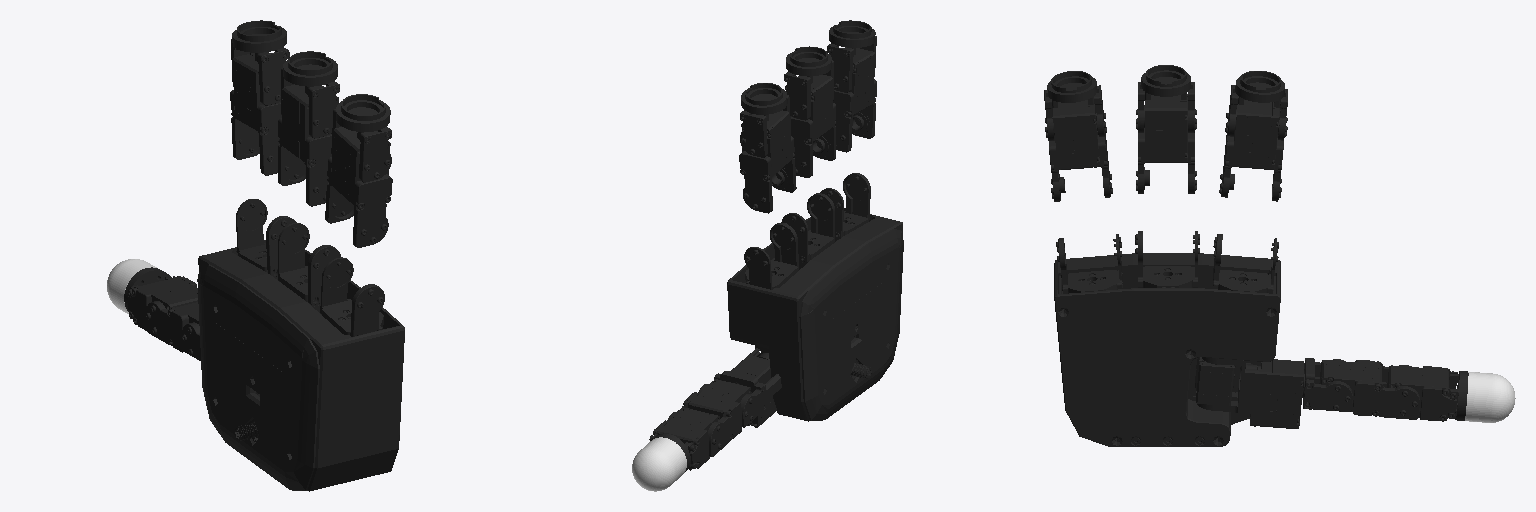
The robot description file, URDF, robot "allegro_hand_right":
<?xml version="1.0" ?>
<!-- =================================================================================== -->
<!-- |    This document was autogenerated by xacro from allegro_hand_description_right.xacro | -->
<!-- |    EDITING THIS FILE BY HAND IS NOT RECOMMENDED                                 | -->
<!-- =================================================================================== -->
<robot name="allegro_hand_right" xmlns:xacro="http://www.ros.org/wiki/xacro">
  <!-- ======================== BASE PARAMS ========================= -->
  <!-- ======================== FINGER PARAMS ======================== -->
  <!-- full height from joint to tip. when used,
    the radius of the finger tip sphere will be subtracted
    and one fixed link will be added for the tip. -->
  <!-- ========================= THUMB PARAMS ========================= -->
  <!-- ========================= LIMITS ========================= -->
  <!-- ============================================================================= -->
  <!-- PALM -->
 <link name="world"/>
  <joint name="global" type="fixed">
        <parent link="world"/>
        <child link="palm_link"/>
        <!--<origin xyz="0 0 0.095" rpy="0 0 0"/>-->
        <origin xyz="0 0 0.0" rpy="0 0 0"/>
  </joint>
  <link name="palm_link">
    <visual>
      <geometry>
        <mesh filename="package://allegro_hand_controllers/meshes/palm.stl" scale="0.001 0.001 0.001"/>
      </geometry>
      <origin rpy="0 3.14 1.57" xyz="0.02 -0.00 -0.1"/>
      <material name="black">
        <color rgba="0.2 0.2 0.2 1"/>
      </material>
    </visual>
    <collision>
      <geometry>
        <mesh filename="package://allegro_hand_controllers/meshes/palm.stl" scale="0.001 0.001 0.001"/>
      </geometry>
 <origin rpy="0 3.14 1.57" xyz="0.02 -0.00 -0.1"/>
    </collision>
    <inertial>
      <origin rpy="0 0 0" xyz="0 0 0.0475"/>
      <mass value="0.4154"/>
      <inertia ixx="1e-4" ixy="0.0" ixz="0.0" iyy="1e-4" iyz="0.0" izz="1e-4"/>
    </inertial>
  </link>
  <!-- ============================================================================= -->
  <!-- FINGERS -->
  <!-- RIGHT HAND due to which finger is number 0 -->
  <!-- for LEFT HAND switch the sign of the **offset_origin_y** and **finger_angle_r** parameters-->
  <!-- [LINK 0, 4, 8] -->
  <link name="link_0_0">
    <visual>
      <geometry>
        <mesh filename="package://allegro_hand_controllers/meshes/new_l1.stl" scale="0.001 0.001 0.001"/>
      </geometry>
      <origin rpy="0 0 -1.57" xyz="-0.0625 -0.022 0.167"/>
      <material name="black">
        <color rgba="0.2 0.2 0.2 1"/>
      </material>
    </visual>
    <collision>
      <geometry>
        <mesh filename="package://allegro_hand_controllers/meshes/new_l1.stl" scale="0.001 0.001 0.001"/>
      </geometry>
      <origin rpy="0 0 -1.57" xyz="-0.0625 -0.022 0.167"/>
    </collision>
    <inertial>
      <mass value="0.0176"/>
      <origin rpy="0 0 0" xyz="0 0 0"/>
      <inertia ixx="1.2854008e-05" ixy="2.04e-08" ixz="1.89e-06" iyy="1.225e-05" iyz="1.51e-07" izz="2.999e-06"/>
    </inertial>
  </link>
  <joint name="joint_0_0" type="revolute">
    <axis xyz="0 0 1"/>
    <limit effort="15" lower="-0.3" upper="0.3" velocity="7"/>
    <parent link="palm_link"/>
    <child link="link_0_0"/>
    <origin rpy="-0.08726646255 0 0" xyz="0.0005 0.0425 -0.005"/>
    <dynamics damping="3" friction="10"/>
  </joint>
  <!-- [LINK 1, 5, 9] -->
  <link name="link_1_0">
    <visual>
      <geometry>
        <mesh filename="package://allegro_hand_controllers/meshes/new_l2.stl" scale="0.001 0.001 0.001"/>
      </geometry>
      <origin rpy="0 0 -1.57" xyz="-0.0625 -0.022 0.1495"/>
      <material name="black"/>
    </visual>
    <collision>
      <geometry>
        <mesh filename="package://allegro_hand_controllers/meshes/new_l2.stl" scale="0.001 0.001 0.001"/>
      </geometry>
      <origin rpy="0 0 -1.57" xyz="-0.0625 -0.022 0.1495"/>
    </collision>
    <inertial>
      <mass value="0.086"/>
      <origin rpy="0 0 0" xyz="0 0 0"/>
      <inertia ixx="1.86e-05" ixy="1.68e-06" ixz="-6.16e-06" iyy="4.87e-05" iyz="3.51e-07" izz="5.57e-05"/>
    </inertial>
  </link>
  <joint name="joint_1_0" type="revolute">
    <limit effort="15" lower="-0.01" upper="1.6" velocity="7"/>
    <axis xyz="0 1 0"/>
    <parent link="link_0_0"/>
    <child link="link_1_0"/>
    <origin xyz="0 -0.000 0.017"/>
    <dynamics damping="3" friction="5"/>
  </joint>
  <!-- [LINK 2, 6, 10]-->
  <link name="link_2_0">
    <visual>
      <geometry>
        <mesh filename="package://allegro_hand_controllers/meshes/new_l3.stl" scale="0.001 0.001 0.001"/>
      </geometry>
      <origin rpy="0 0 -1.57" xyz="-0.0625 -0.022 0.1065"/>
      <material name="black"/>
    </visual>
    <collision>
      <geometry>
        <mesh filename="package://allegro_hand_controllers/meshes/new_l3.stl" scale="0.001 0.001 0.001"/>
      </geometry>
      <origin rpy="0 0 -1.57" xyz="-0.0625 -0.022 0.1065"/>
    </collision>
    <inertial>
      <mass value="0.0367"/>
      <origin rpy="0 0 0" xyz="0 0 0"/>
      <inertia ixx="3.81e-06" ixy="5.72e-09" ixz="-9.97e-07" iyy="1.455e-05" iyz="2.63e-08" izz="1.29e-05"/>
    </inertial>
  </link>
  <joint name="joint_2_0" type="revolute">
    <axis xyz="0 1 0"/>
    <limit effort="15" lower="-0.07" upper="1.86" velocity="7"/>
    <parent link="link_1_0"/>
    <child link="link_2_0"/>
    <origin xyz="0 -0.000 0.0431"/>
    <dynamics damping="8" friction="10"/>
  </joint>
  <!-- [LINK 3, 7, 11] -->
  <link name="link_3_0">
    <visual>
      <geometry>
        <mesh filename="package://allegro_hand_controllers/meshes/new_l4.stl" scale="0.001 0.001 0.001"/>
      </geometry>
      <origin rpy="0 0 -1.57" xyz="-0.0625 -0.022 0.0685"/>
      <material name="black"/>
    </visual>
    <collision>
      <geometry>
        <mesh filename="package://allegro_hand_controllers/meshes/new_l4.stl" scale="0.001 0.001 0.001"/>
      </geometry>
      <origin rpy="0 0 -1.57" xyz="-0.0625 -0.022 0.0685"/>
    </collision>
    <inertial>
      <mass value="0.004"/>
      <origin rpy="0 0 0" xyz="0 0 0"/>
      <inertia ixx="1.17e-06" ixy="5.09e-09" ixz="0.0" iyy="2.4e-06" iyz="0.0" izz="1.67e-06"/>
    </inertial>
  </link>
  <joint name="joint_3_0" type="revolute">
    <axis xyz="0 1 0"/>
    <limit effort="15" lower="-0.02" upper="2.01" velocity="7"/>
    <parent link="link_2_0"/>
    <child link="link_3_0"/>
    <origin xyz="0 0 0.038"/>
    <dynamics damping="10" friction="12"/>
  </joint>
  <!-- [FINGER TIP] -->
  <link name="link_3_0_tip">
    <visual>
      <geometry>
        <mesh filename="package://allegro_hand_controllers/meshes/finger_tip.stl" scale="0.001 0.001 0.001"/>
      </geometry>
       <origin rpy="0 0 -1.57" xyz="-0.05482 -0.01493 -0.01795"/>
      <material name="white">
        <color rgba=".9 .9 .9 1"/>
      </material>
    </visual>
    <collision>
      <geometry>
        <mesh filename="package://allegro_hand_controllers/meshes/finger_tip.stl" scale="0.001 0.001 0.001"/>
      </geometry>
       <origin rpy="0 0 -1.57" xyz="-0.05482 -0.01493 -0.01795"/>
    </collision>
    <inertial>
      <mass value="0.0017"/>
      <origin rpy="0 0 0" xyz="0 0 0"/>
      <inertia ixx="9.68e-07" ixy="0" ixz="0" iyy="9.68e-07" iyz="0" izz="9.68e-07"/>
    </inertial>
  </link>
  <joint name="joint_3_0_tip" type="fixed">
    <parent link="link_3_0"/>
    <child link="link_3_0_tip"/>
    <origin rpy="0 0 0" xyz="0 0 0.04"/>
  </joint>
  <!-- [LINK 0, 4, 8] -->
  <link name="link_4_0">
     <visual>
      <geometry>
        <mesh filename="package://allegro_hand_controllers/meshes/new_l1.stl" scale="0.001 0.001 0.001"/>
      </geometry>
      <origin rpy="0 0 -1.57" xyz="-0.0625 -0.022 0.167"/>
      <material name="black">
        <color rgba="0.2 0.2 0.2 1"/>
      </material>
    </visual>
    <collision>
      <geometry>
        <mesh filename="package://allegro_hand_controllers/meshes/new_l1.stl" scale="0.001 0.001 0.001"/>
      </geometry>
      <origin rpy="0 0 -1.57" xyz="-0.0625 -0.022 0.167"/>
    </collision>
    <inertial>
      <mass value="0.0176"/>
      <origin rpy="0 0 0" xyz="0 0 0"/>
      <inertia ixx="1.2854008e-05" ixy="2.04e-08" ixz="1.89e-06" iyy="1.225e-05" iyz="1.51e-07" izz="2.999e-06"/>
    </inertial>
  </link>
  <joint name="joint_4_0" type="revolute">
    <axis xyz="0 0 1"/>
    <limit effort="15" lower="-0.26" upper="0.26" velocity="7"/>
    <parent link="palm_link"/>
    <child link="link_4_0"/>
    <origin rpy="0.0 0 0" xyz="0 0 -0.002"/>
    <dynamics damping="3" friction="10"/>
  </joint>
  <!-- [LINK 1, 5, 9] -->
  <link name="link_5_0">
    <visual>
      <geometry>
        <mesh filename="package://allegro_hand_controllers/meshes/new_l2.stl" scale="0.001 0.001 0.001"/>
      </geometry>
      <origin rpy="0 0 -1.57" xyz="-0.0625 -0.022 0.1495"/>
      <material name="black"/>
    </visual>
    <collision>
      <geometry>
        <mesh filename="package://allegro_hand_controllers/meshes/new_l2.stl" scale="0.001 0.001 0.001"/>
      </geometry>
      <origin rpy="0 0 -1.57" xyz="-0.0625 -0.022 0.1495"/>
    </collision>
    <inertial>
      <mass value="0.086"/>
      <origin rpy="0 0 0" xyz="0 0 0"/>
      <inertia ixx="1.86e-05" ixy="1.68e-06" ixz="-6.16e-06" iyy="4.87e-05" iyz="3.51e-07" izz="5.57e-05"/>
    </inertial>
  </link>
  <joint name="joint_5_0" type="revolute">
    <limit effort="15" lower="-0.21" upper="1.79" velocity="7"/>
    <axis xyz="0 1 0"/>
    <parent link="link_4_0"/>
    <child link="link_5_0"/>
    <origin xyz="0 0 0.017"/>
    <dynamics damping="3" friction="5"/>
  </joint>
  <!-- [LINK 2, 6, 10]-->
  <link name="link_6_0">
   <visual>
      <geometry>
        <mesh filename="package://allegro_hand_controllers/meshes/new_l3.stl" scale="0.001 0.001 0.001"/>
      </geometry>
      <origin rpy="0 0 -1.57" xyz="-0.0625 -0.022 0.1065"/>
      <material name="black"/>
    </visual>
    <collision>
      <geometry>
        <mesh filename="package://allegro_hand_controllers/meshes/new_l3.stl" scale="0.001 0.001 0.001"/>
      </geometry>
      <origin rpy="0 0 -1.57" xyz="-0.0625 -0.022 0.1065"/>
    </collision>
    <inertial>
      <mass value="0.0367"/>
      <origin rpy="0 0 0" xyz="0 0 0"/>
      <inertia ixx="3.81e-06" ixy="5.72e-09" ixz="-9.97e-07" iyy="1.455e-05" iyz="2.63e-08" izz="1.29e-05"/>
    </inertial>
  </link>
  <joint name="joint_6_0" type="revolute">
    <axis xyz="0 1 0"/>
    <limit effort="15" lower="-0.12" upper="1.86" velocity="7"/>
    <parent link="link_5_0"/>
    <child link="link_6_0"/>
    <origin xyz="0 0 0.0431"/>
    <dynamics damping="8" friction="10"/>
  </joint>
  <!-- [LINK 3, 7, 11] -->
  <link name="link_7_0">
    <visual>
      <geometry>
        <mesh filename="package://allegro_hand_controllers/meshes/new_l4.stl" scale="0.001 0.001 0.001"/>
      </geometry>
      <origin rpy="0 0 -1.57" xyz="-0.0625 -0.022 0.0685"/>
      <material name="black"/>
    </visual>
    <collision>
      <geometry>
        <mesh filename="package://allegro_hand_controllers/meshes/new_l4.stl" scale="0.001 0.001 0.001"/>
      </geometry>
      <origin rpy="0 0 -1.57" xyz="-0.0625 -0.022 0.0685"/>
    </collision>
    <inertial>
      <mass value="0.004"/>
      <origin rpy="0 0 0" xyz="0 0 0"/>
      <inertia ixx="1.17e-06" ixy="5.09e-09" ixz="0.0" iyy="2.4e-06" iyz="0.0" izz="1.67e-06"/>
    </inertial>
  </link>
  <joint name="joint_7_0" type="revolute">
    <axis xyz="0 1 0"/>
    <limit effort="15" lower="-0.21" upper="1.85" velocity="7"/>
    <parent link="link_6_0"/>
    <child link="link_7_0"/>
    <origin xyz="0 0 0.038"/>
    <dynamics damping="10" friction="12"/>
  </joint>
  <!-- [FINGER TIP] -->
  <link name="link_7_0_tip">
    <visual>
      <geometry>
        <mesh filename="package://allegro_hand_controllers/meshes/finger_tip.stl" scale="0.001 0.001 0.001"/>
      </geometry>
       <origin rpy="0 0 -1.57" xyz="-0.05482 -0.01493 -0.01795"/>
      <material name="white">
        <color rgba=".9 .9 .9 1"/>
      </material>
    </visual>
    <collision>
      <geometry>
        <mesh filename="package://allegro_hand_controllers/meshes/finger_tip.stl" scale="0.001 0.001 0.001"/>
      </geometry>
        <origin rpy="0 0 -1.57" xyz="-0.05482 -0.01493 -0.01795"/>
    </collision>
    <inertial>
      <mass value="0.0017"/>
      <origin rpy="0 0 0" xyz="0 0 0"/>
      <inertia ixx="9.68e-07" ixy="0" ixz="0" iyy="9.68e-07" iyz="0" izz="9.68e-07"/>
    </inertial>
  </link>
  <joint name="joint_7_0_tip" type="fixed">
    <parent link="link_7_0"/>
    <child link="link_7_0_tip"/>
    <origin rpy="0 0 0" xyz="0 0 0.04"/>
  </joint>
  <!-- [LINK 0, 4, 8] -->
    <link name="link_8_0">
       <visual>
      <geometry>
        <mesh filename="package://allegro_hand_controllers/meshes/new_l1.stl" scale="0.001 0.001 0.001"/>
      </geometry>
      <origin rpy="0 0 -1.57" xyz="-0.0625 -0.022 0.167"/>
      <material name="black">
        <color rgba="0.2 0.2 0.2 1"/>
      </material>
    </visual>
    <collision>
      <geometry>
        <mesh filename="package://allegro_hand_controllers/meshes/new_l1.stl" scale="0.001 0.001 0.001"/>
      </geometry>
      <origin rpy="0 0 -1.57" xyz="-0.0625 -0.022 0.167"/>
    </collision>
    <inertial>
      <mass value="0.0176"/>
      <origin rpy="0 0 0" xyz="0 0 0"/>
      <inertia ixx="1.2854008e-05" ixy="2.04e-08" ixz="1.89e-06" iyy="1.225e-05" iyz="1.51e-07" izz="2.999e-06"/>
    </inertial>
  </link>
  <joint name="joint_8_0" type="revolute">
    <axis xyz="0 0 1"/>
    <limit effort="15" lower="-0.26" upper="0.29" velocity="7"/>
    <parent link="palm_link"/>
    <child link="link_8_0"/>
    <origin rpy="0.08726646255 0 0" xyz="0.0005 -0.0425 -0.005"/>
    <dynamics damping="3" friction="10"/>
  </joint>
  <!-- [LINK 1, 5, 9] -->
  <link name="link_9_0">
    <visual>
      <geometry>
        <mesh filename="package://allegro_hand_controllers/meshes/new_l2.stl" scale="0.001 0.001 0.001"/>
      </geometry>
      <origin rpy="0 0 -1.57" xyz="-0.0625 -0.022 0.1495"/>
      <material name="black"/>
    </visual>
    <collision>
      <geometry>
        <mesh filename="package://allegro_hand_controllers/meshes/new_l2.stl" scale="0.001 0.001 0.001"/>
      </geometry>
      <origin rpy="0 0 -1.57" xyz="-0.0625 -0.022 0.1495"/>
    </collision>
    <inertial>
      <mass value="0.086"/>
      <origin rpy="0 0 0" xyz="0 0 0"/>
      <inertia ixx="1.86e-05" ixy="1.68e-06" ixz="-6.16e-06" iyy="4.87e-05" iyz="3.51e-07" izz="5.57e-05"/>
    </inertial>
  </link>
  <joint name="joint_9_0" type="revolute">
    <limit effort="15" lower="-0.21" upper="1.79" velocity="7"/>
    <axis xyz="0 1 0"/>
    <parent link="link_8_0"/>
    <child link="link_9_0"/>
    <origin xyz="0 0 0.017"/>
    <dynamics damping="3" friction="5"/>
  </joint>
  <!-- [LINK 2, 6, 10]-->
  <link name="link_10_0">
    <visual>
      <geometry>
        <mesh filename="package://allegro_hand_controllers/meshes/new_l3.stl" scale="0.001 0.001 0.001"/>
      </geometry>
      <origin rpy="0 0 -1.57" xyz="-0.0625 -0.022 0.1065"/>
      <material name="black"/>
    </visual>
    <collision>
      <geometry>
        <mesh filename="package://allegro_hand_controllers/meshes/new_l3.stl" scale="0.001 0.001 0.001"/>
      </geometry>
      <origin rpy="0 0 -1.57" xyz="-0.0625 -0.022 0.1065"/>
    </collision>
    <inertial>
      <mass value="0.0367"/>
      <origin rpy="0 0 0" xyz="0 0 0"/>
      <inertia ixx="3.81e-06" ixy="5.72e-09" ixz="-9.97e-07" iyy="1.455e-05" iyz="2.63e-08" izz="1.29e-05"/>
    </inertial>
  </link>
  <joint name="joint_10_0" type="revolute">
    <axis xyz="0 1 0"/>
    <limit effort="15" lower="-0.12" upper="1.86" velocity="7"/>
    <parent link="link_9_0"/>
    <child link="link_10_0"/>
    <origin xyz="0 0 0.0431"/>
    <dynamics damping="8" friction="10"/>
  </joint>
  <!-- [LINK 3, 7, 11] -->
  <link name="link_11_0">
    <visual>
      <geometry>
        <mesh filename="package://allegro_hand_controllers/meshes/new_l4.stl" scale="0.001 0.001 0.001"/>
      </geometry>
      <origin rpy="0 0 -1.57" xyz="-0.0625 -0.022 0.0685"/>
      <material name="black"/>
    </visual>
    <collision>
      <geometry>
        <mesh filename="package://allegro_hand_controllers/meshes/new_l4.stl" scale="0.001 0.001 0.001"/>
      </geometry>
      <origin rpy="0 0 -1.57" xyz="-0.0625 -0.022 0.0685"/>
    </collision>
    <inertial>
      <mass value="0.004"/>
      <origin rpy="0 0 0" xyz="0 0 0"/>
      <inertia ixx="1.17e-06" ixy="5.09e-09" ixz="0.0" iyy="2.4e-06" iyz="0.0" izz="1.67e-06"/>
    </inertial>
  </link>
  <joint name="joint_11_0" type="revolute">
    <axis xyz="0 1 0"/>
    <limit effort="15" lower="-0.21" upper="1.85" velocity="7"/>
    <parent link="link_10_0"/>
    <child link="link_11_0"/>
    <origin xyz="0 0 0.038"/>
    <dynamics damping="10" friction="12"/>
  </joint>
  <!-- [FINGER TIP] -->
  <link name="link_11_0_tip">
    <visual>
      <geometry>
        <mesh filename="package://allegro_hand_controllers/meshes/finger_tip.stl" scale="0.001 0.001 0.001"/>
      </geometry>
       <origin rpy="0 0 -1.57" xyz="-0.05482 -0.01493 -0.01795"/>
      <material name="white">
        <color rgba=".9 .9 .9 1"/>
      </material>
    </visual>
    <collision>
      <geometry>
        <mesh filename="package://allegro_hand_controllers/meshes/finger_tip.stl" scale="0.001 0.001 0.001"/>
      </geometry>
       <origin rpy="0 0 -1.57" xyz="-0.05482 -0.01493 -0.01795"/>
    </collision>
    <inertial>
      <mass value="0.0017"/>
      <origin rpy="0 0 0" xyz="0 0 0"/>
      <inertia ixx="9.68e-07" ixy="0" ixz="0" iyy="9.68e-07" iyz="0" izz="9.68e-07"/>
    </inertial>
  </link>
  <joint name="joint_11_0_tip" type="fixed">
    <parent link="link_11_0"/>
    <child link="link_11_0_tip"/>
    <origin rpy="0 0 0" xyz="0 0 0.04"/>
  </joint>
  <!-- THUMB -->
  <!-- [LINK 12] -->
  <link name="link_12_0">
    <visual>
      <geometry>
        <mesh filename="package://allegro_hand_controllers/meshes/t1_set.stl" scale="0.001 0.001 0.001"/>
      </geometry>
      <origin rpy="3.926991 3.14 3.14" xyz="0.021 -0.1145 0.0725"/>
      <material name="black">
        <color rgba=".2 .2 .2 1"/>
      </material>
    </visual>
    <collision>
      <geometry>
        <mesh filename="package://allegro_hand_controllers/meshes/t1_set.stl" scale="0.001 0.001 0.001"/>
      </geometry>
      <origin rpy="3.926991 3.14 3.14" xyz="0.021 -0.1145 0.0725"/>
    </collision>
    <inertial>
      <mass value="0.0446"/>
      <origin rpy="0 0 0" xyz="0 0 0"/>
      <inertia ixx="5.44e-5" ixy="4.0e-07" ixz="-1.12e-07" iyy="9.19e-06" iyz="1.07e-05" izz="4.8e-05"/>
    </inertial>
  </link>
  <joint name="joint_12_0" type="revolute">
    <axis xyz="-1 0 0"/>
    <limit effort="15" lower="0.00" upper="1.78" velocity="7"/>
    <parent link="palm_link"/>
    <child link="link_12_0"/>
    <origin rpy="0 -1.65806278845 -1.5707963259" xyz="0.002 0.027 -0.06342"/>
    <dynamics damping="3" friction="10"/>
  </joint>
  <!-- [LINK 13] -->
  <link name="link_13_0">
    <visual>
      <geometry>
        <mesh filename="package://allegro_hand_controllers/meshes/t2_set.stl" scale="0.001 0.001 0.001"/>
      </geometry>
      <origin rpy="3.14 3.14 1.57" xyz="-0.138 -0.0605 0.2143"/>
      <material name="black">
        <color rgba=".2 .2 .2 1"/>
      </material>
    </visual>
    <collision>
      <geometry>
        <mesh filename="package://allegro_hand_controllers/meshes/t2_set.stl" scale="0.001 0.001 0.001"/>
      </geometry>
      <origin rpy="3.14 3.14 1.57" xyz="-0.138 -0.0605 0.2143"/>
    </collision>
    <inertial>
      <mass value="0.0173"/>
      <origin rpy="0 0 0" xyz="0 0 0"/>
      <inertia ixx="1.52e-05" ixy="-2.09e-08" ixz="-9.8e-09" iyy="1.3323e-05" iyz="-2.04e-06" izz="2.85e-06"/>
    </inertial>
  </link>
  <joint name="joint_13_0" type="revolute">
    <axis xyz="0 0 1"/>
       <limit effort="15" lower="-0.26" upper="1.65" velocity="7"/>
    <parent link="link_12_0"/>
    <child link="link_13_0"/>
    <origin xyz="-0.001 0.00 0.06874"/>
    <dynamics damping="3" friction="5"/>
  </joint>
  <!-- [LINK 14] -->
  <link name="link_14_0">
    <visual>
      <geometry>
        <mesh filename="package://allegro_hand_controllers/meshes/t3_set.stl" scale="0.001 0.001 0.001"/>
      </geometry>
      <origin rpy="3.14 3.14 1.57" xyz="-0.1265 -0.061 0.166"/>
      <material name="black">
      </material>
    </visual>
    <collision>
      <geometry>
        <mesh filename="package://allegro_hand_controllers/meshes/t3_set.stl" scale="0.001 0.001 0.001"/>
      </geometry>
      <origin rpy="3.14 3.14 1.57" xyz="-0.1265 -0.061 0.166"/>
    </collision>
    <inertial>
      <mass value="0.03607"/>
      <origin rpy="0 0 0" xyz="0 0 0"/>
      <inertia ixx="3.7e-06" ixy="2.43e-07" ixz="6.48e-07" iyy="1.54e-05" iyz="-3.11e-08" izz="1.388e-05"/>
    </inertial>
  </link>
  <joint name="joint_14_0" type="revolute">
    <axis xyz="0 1 0"/>
    <!--<limit effort="15" lower="-0.54" upper="1.53" velocity="7"/>-->
           <limit effort="15" lower="-0.05" upper="1.85" velocity="7"/>
    <parent link="link_13_0"/>
    <child link="link_14_0"/>
    <origin xyz="0 0 0.00"/>
    <dynamics damping="3" friction="10"/>
  </joint>
  <!-- [LINK 15] -->
  <link name="link_15_0">
    <visual>
      <geometry>
         <mesh filename="package://allegro_hand_controllers/meshes/t4_set.stl" scale="0.001 0.001 0.001"/>
      </geometry>
      <origin rpy="3.14 3.14 1.57" xyz="-0.149 -0.061 0.096"/>
      <material name="black">
      </material>
    </visual>
    <collision>
      <geometry>
         <mesh filename="package://allegro_hand_controllers/meshes/t4_set.stl" scale="0.001 0.001 0.001"/>
      </geometry>
      <origin rpy="3.14 3.14 1.57" xyz="-0.149 -0.061 0.096"/>
    </collision>
    <inertial>
      <mass value="0.0334"/>
      <origin rpy="0 0 0" xyz="0 0 0"/>
      <inertia ixx="2.94e-06" ixy="1.244e-07" ixz="3.52e-07" iyy="1.13e-05" iyz="-3.11e-08" izz="1.06e-05"/>
    </inertial>
  </link>
  <joint name="joint_15_0" type="revolute">
    <axis xyz="0 1 0"/>
    <limit effort="15" lower="-0.09" upper="1.80" velocity="7"/>
    <parent link="link_14_0"/>
    <child link="link_15_0"/>
    <origin xyz="0 0 0.038"/>
    <dynamics damping="3" friction="12"/>
  </joint>
  <!-- [FINGER TIP] -->
  <link name="link_15_0_tip">
    <visual>
      <geometry>
        <mesh filename="package://allegro_hand_controllers/meshes/finger_tip_silicon.stl" scale="0.001 0.001 0.001"/>
      </geometry>
      <origin rpy="0 0 3.14" xyz="-0.014 0.0545 -0.0172"/>
      <material name="white">
        <color rgba=".9 .9 .9 1"/>
      </material>
    </visual>
    <collision>
      <geometry>
        <mesh filename="package://allegro_hand_controllers/meshes/finger_tip_silicon.stl" scale="0.001 0.001 0.001"/>
      </geometry>
      <origin rpy="0 0 3.14" xyz="-0.014 0.0545 -0.0172"/>
    </collision>
    <inertial>
      <mass value="0.0014"/>
      <origin rpy="0 0 0" xyz="0 0 0"/>
      <inertia ixx="9.68e-07" ixy="0" ixz="0" iyy="9.68e-07" iyz="0" izz="9.68e-07"/>
    </inertial>
  </link>
  <joint name="joint_15_0_tip" type="fixed">
    <parent link="link_15_0"/>
    <child link="link_15_0_tip"/>
    <origin rpy="0 0 0" xyz="0 0 0.05"/>
  </joint>
  <!-- ============================================================================= -->
  <!-- THUMB MACRO -->
  <!-- END THUMB MACRO -->
  <!-- THREE FINGER MACRO -->
  <!-- [[END]] THREE FINGER MACRO -->
</robot>

--- Render facts (derived) ---
Views: 3 orthographic renders of the robot side by side, from view 1: azimuth 30°, elevation 25°; view 2: azimuth 150°, elevation 25°; view 3: azimuth 270°, elevation 25°.
Robot: allegro_hand_right — 22 links, 21 joints (16 revolute, 5 fixed); root link world; default pose: every joint at zero.
Visible links, largest first — view 1: palm_link, link_10_0, link_6_0, link_2_0, link_8_0, link_11_0, link_7_0, link_4_0, link_3_0, link_0_0, link_15_0, link_14_0 (+2 smaller); view 2: palm_link, link_2_0, link_6_0, link_10_0, link_14_0, link_0_0, link_3_0, link_7_0, link_15_0_tip, link_15_0, link_4_0, link_11_0 (+3 smaller); view 3: palm_link, link_12_0, link_2_0, link_10_0, link_6_0, link_14_0, link_15_0, link_15_0_tip, link_3_0, link_11_0, link_7_0, link_4_0 (+3 smaller).
Link boxes in pixels (<box>): palm_link: <box>197,240,404,491</box>; link_10_0: <box>325,127,392,247</box>; link_6_0: <box>278,84,338,206</box>; link_2_0: <box>230,53,281,175</box>; link_8_0: <box>320,257,384,336</box>; link_11_0: <box>331,94,391,182</box>; link_7_0: <box>281,51,339,138</box>; link_4_0: <box>278,223,340,304</box>; link_3_0: <box>231,20,289,105</box>; link_0_0: <box>236,199,296,276</box>; link_15_0: <box>124,267,197,331</box>; link_14_0: <box>146,301,198,352</box>; palm_link: <box>727,208,903,421</box>; link_2_0: <box>739,110,796,213</box>; link_6_0: <box>785,75,835,177</box>; link_10_0: <box>833,48,876,152</box>; link_14_0: <box>667,379,751,456</box>; link_0_0: <box>744,223,798,289</box>; link_3_0: <box>740,83,790,157</box>; link_7_0: <box>784,46,833,120</box>; link_15_0_tip: <box>632,437,686,491</box>; link_15_0: <box>649,408,719,471</box>; link_4_0: <box>781,193,834,262</box>; link_11_0: <box>827,20,876,92</box>; palm_link: <box>1054,253,1280,446</box>; link_12_0: <box>1197,357,1304,428</box>; link_2_0: <box>1219,100,1283,201</box>; link_10_0: <box>1049,100,1112,201</box>; link_6_0: <box>1136,95,1196,193</box>; link_14_0: <box>1319,360,1419,419</box>; link_15_0: <box>1387,365,1468,421</box>; link_15_0_tip: <box>1465,372,1515,422</box>; link_3_0: <box>1225,71,1287,140</box>; link_11_0: <box>1044,71,1106,140</box>; link_7_0: <box>1136,65,1196,132</box>; link_4_0: <box>1135,231,1199,287</box>.
Size in the robot's own frame: 0.0626 by 0.2653 by 0.2252 metres.
Meshes: 11 distinct files referenced, 15 mesh visuals loaded (9 binary STL); not drawn: 6 (reference not matched to a file when rendering).